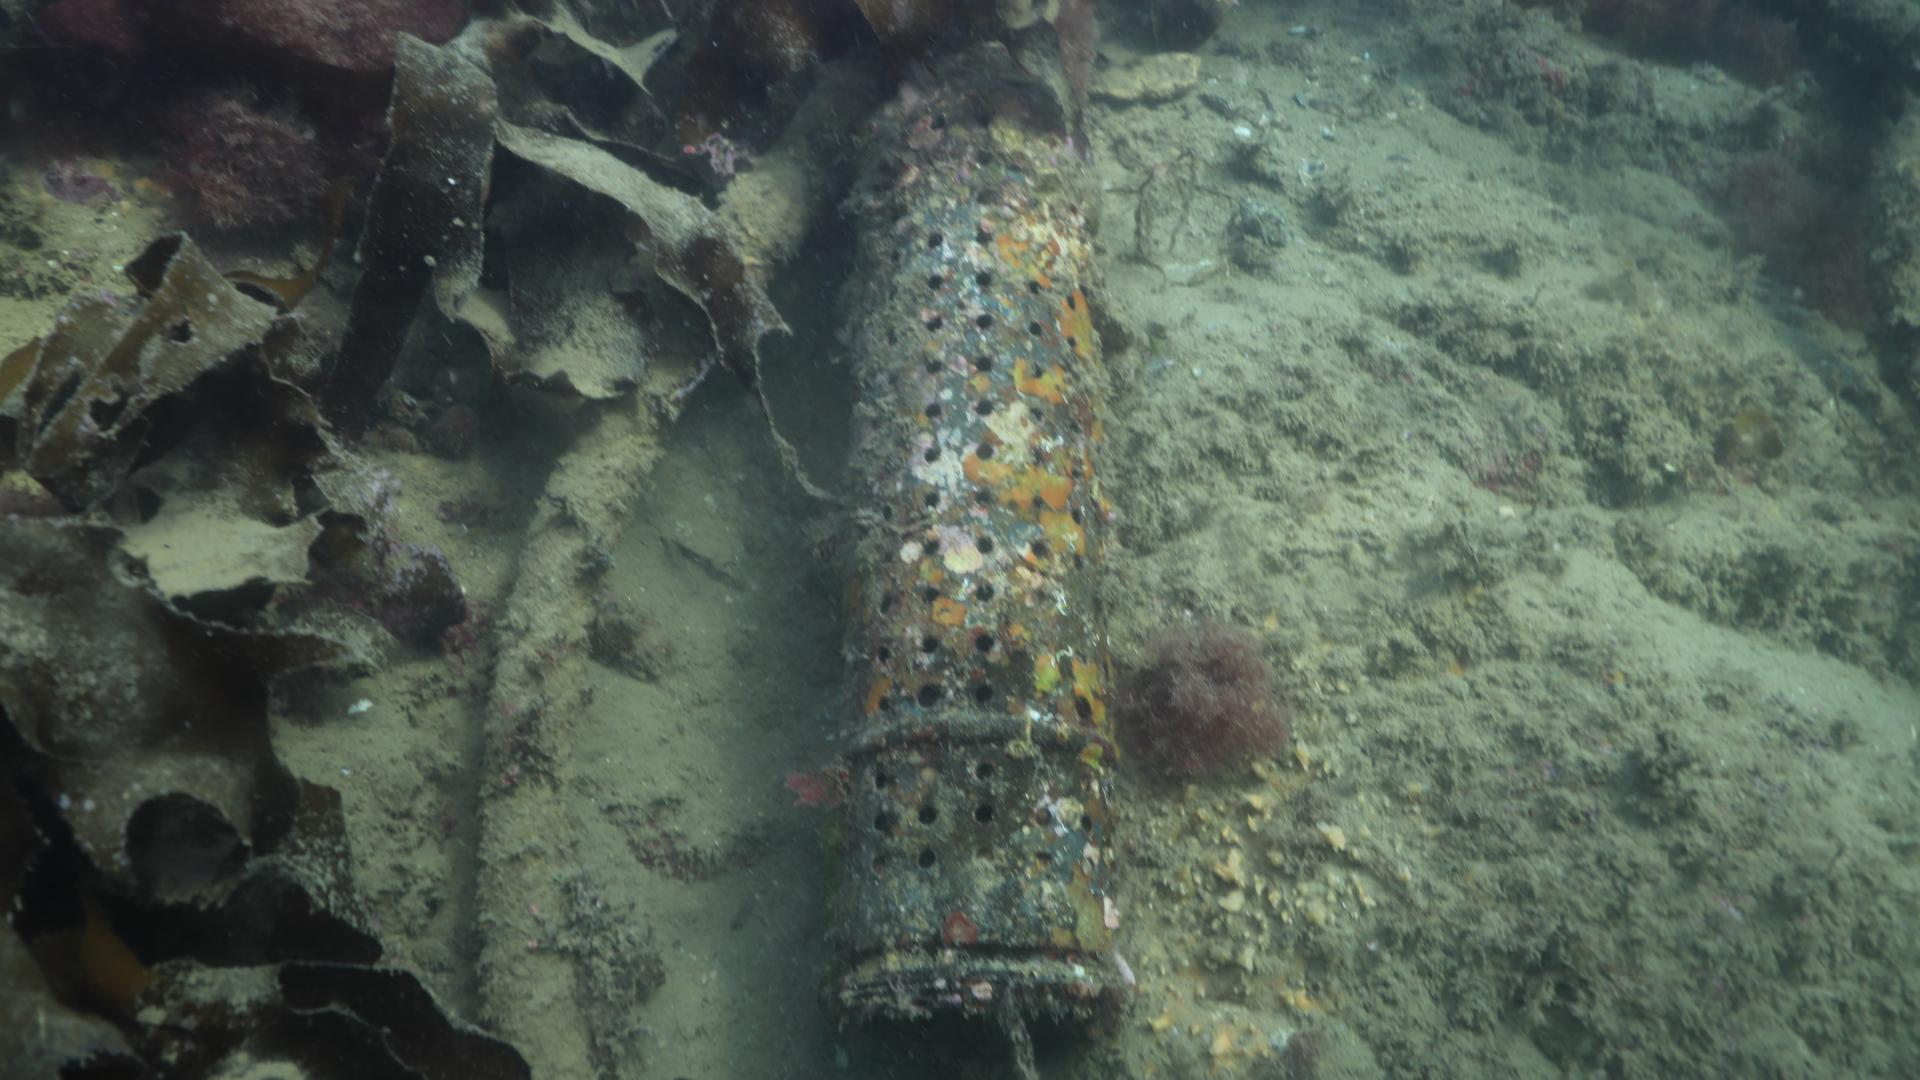eel fish trap: (829, 133, 1126, 1029)
